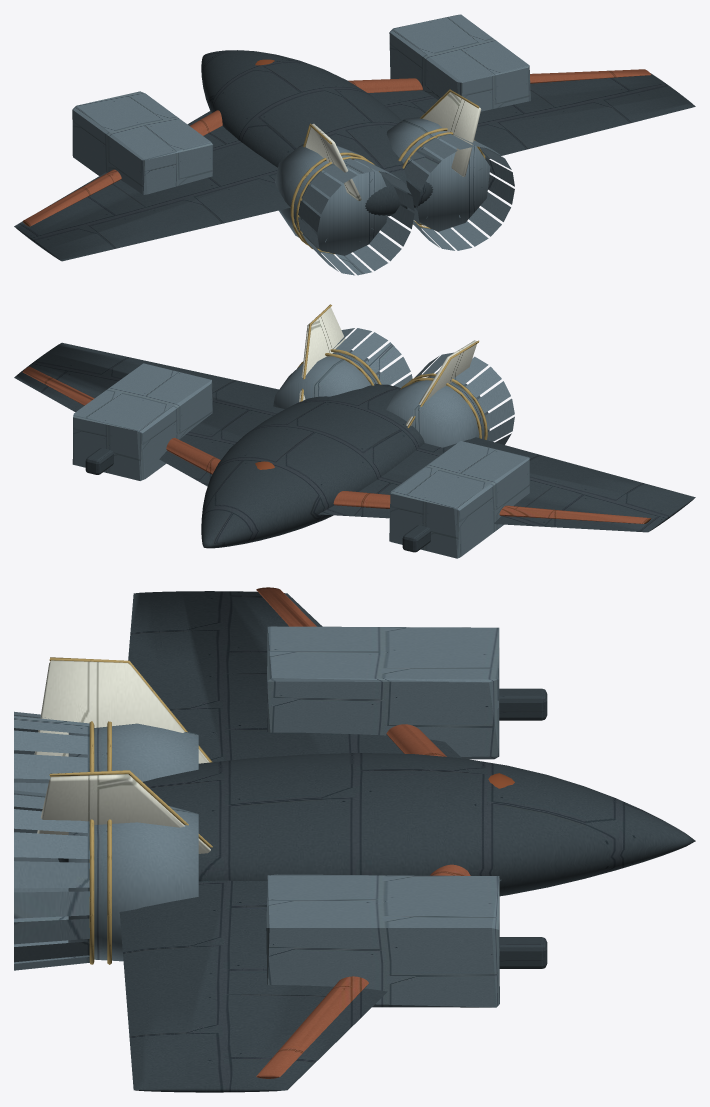
The model's file is heavy.glb.
3 views of the same model, one above another, from view 1: azimuth 30°, elevation 25°; view 2: azimuth 150°, elevation 25°; view 3: azimuth 270°, elevation 25° (orthographic). The views are drawn at different scales.
Visible parts, largest first — view 1: graphite-surfaces, titanium-surfaces, hostile-surfaces, ceramic-surfaces, brass-surfaces; view 2: graphite-surfaces, titanium-surfaces, hostile-surfaces, ceramic-surfaces, brass-surfaces; view 3: graphite-surfaces, titanium-surfaces, ceramic-surfaces, hostile-surfaces, brass-surfaces.
Part boxes in pixels (x1,y1,x2,y2): graphite-surfaces: (14,50,695,261); titanium-surfaces: (72,14,530,275); hostile-surfaces: (22,69,651,226); ceramic-surfaces: (305,92,481,200); brass-surfaces: (290,89,485,254); graphite-surfaces: (14,342,695,552); titanium-surfaces: (72,328,529,558); hostile-surfaces: (22,366,651,523); ceramic-surfaces: (299,307,476,426); brass-surfaces: (297,304,487,439); graphite-surfaces: (58,591,695,1092); titanium-surfaces: (14,626,499,1007); ceramic-surfaces: (34,660,210,853); hostile-surfaces: (256,587,470,1078); brass-surfaces: (49,657,212,964).
Size of the model in its own units: 8.6 by 1.67 by 4.99.
6 materials, 5 textured.
